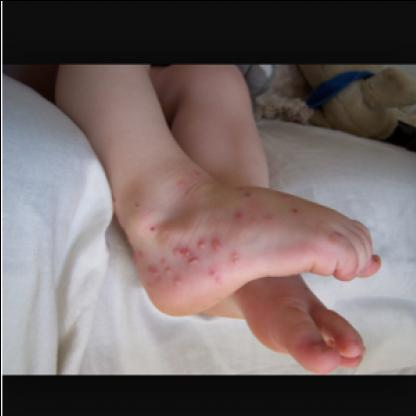Fire ant: (147, 236, 205, 288), (233, 206, 258, 226), (234, 182, 255, 198), (208, 266, 224, 283), (263, 206, 279, 222), (209, 236, 225, 252), (133, 242, 144, 264), (310, 337, 326, 349), (231, 250, 242, 266), (174, 175, 188, 187), (147, 219, 158, 233), (290, 200, 302, 212), (112, 190, 120, 202), (194, 164, 201, 176)
